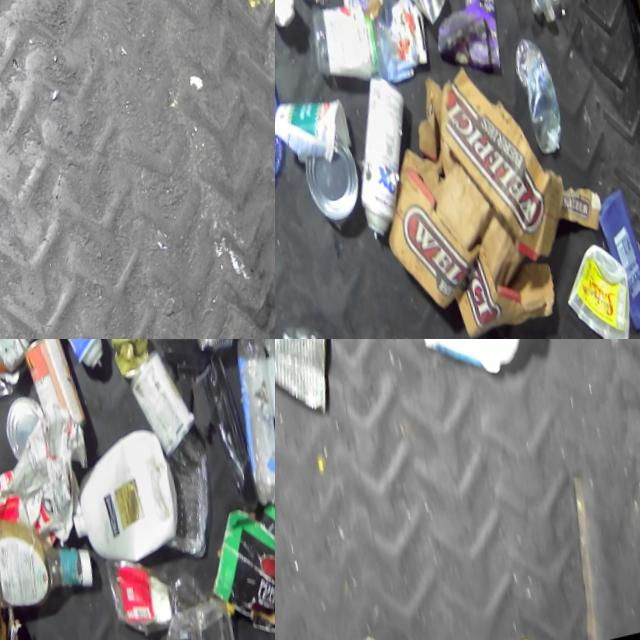can: (334, 76, 425, 251), (120, 349, 197, 467), (16, 339, 84, 445), (275, 339, 347, 434), (296, 140, 361, 231), (12, 339, 105, 387), (0, 394, 47, 466), (383, 0, 450, 40), (101, 339, 153, 390), (0, 339, 61, 381), (174, 339, 237, 363)
milk_jug: (53, 431, 180, 581), (382, 339, 549, 398)
plastic_bottle: (214, 339, 275, 519), (507, 43, 564, 171), (226, 339, 275, 408), (495, 0, 563, 38)
